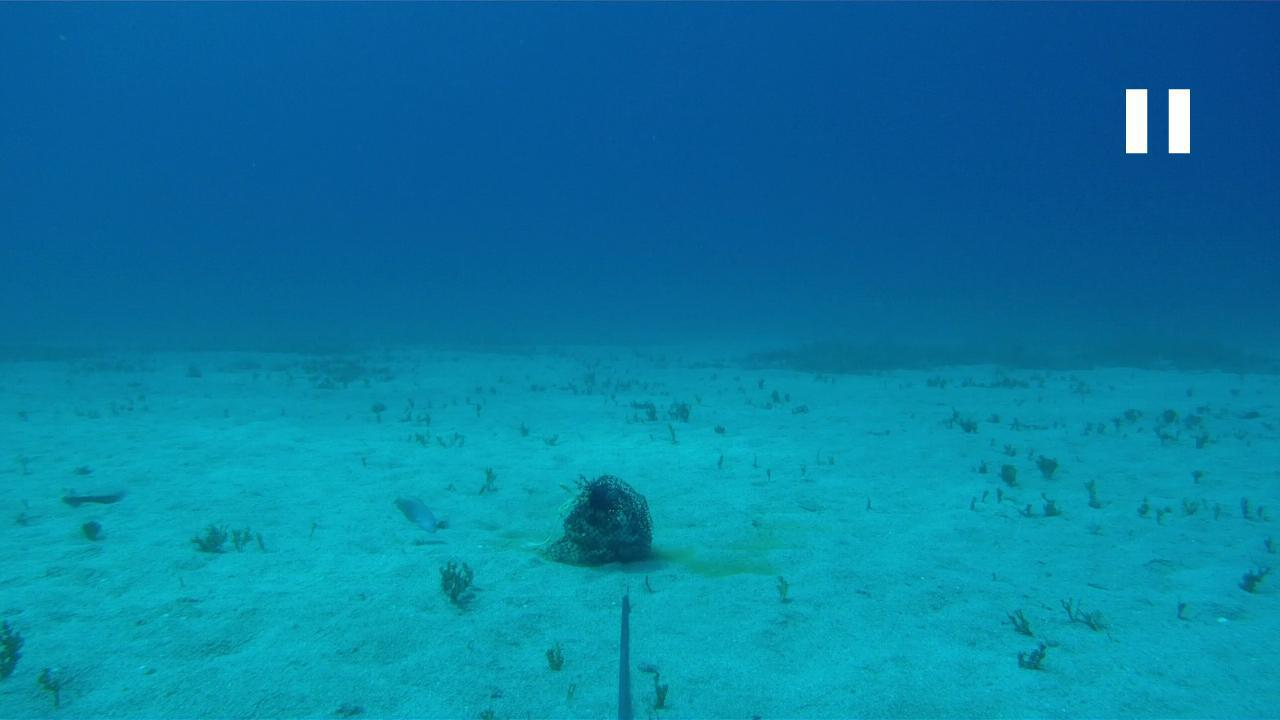bothus: (59, 472, 134, 505)
